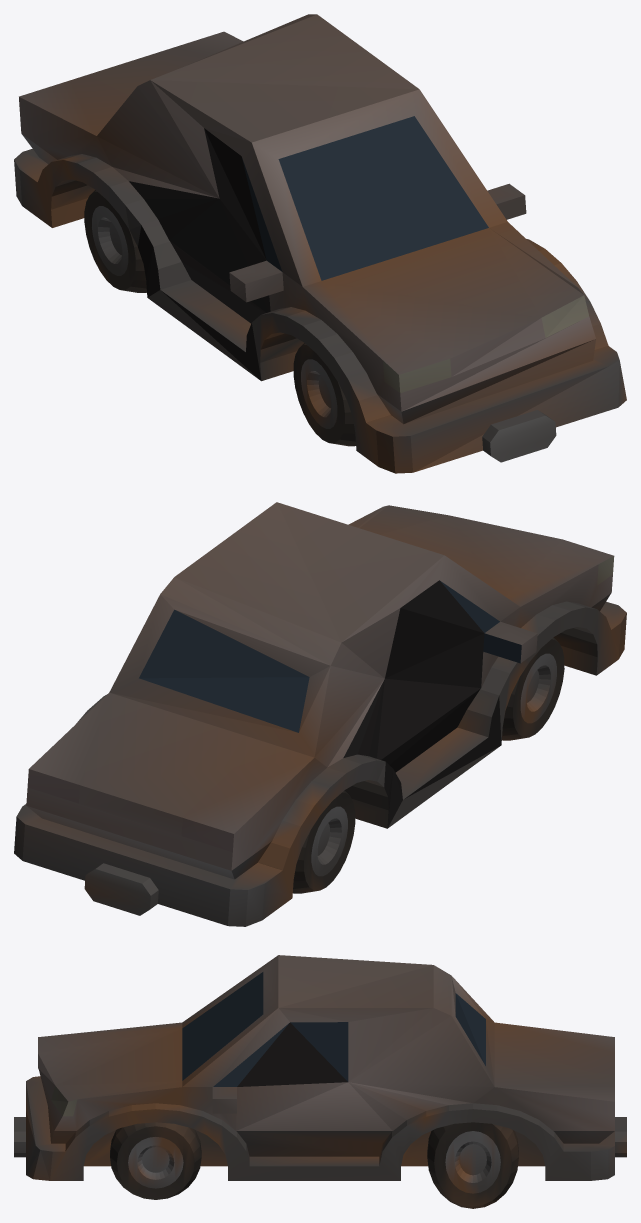
File: sedan_wreck_b.glb
3 renders of one model, top to bottom at view 1: azimuth 30°, elevation 25°; view 2: azimuth 150°, elevation 25°; view 3: azimuth 270°, elevation 25°, orthographic. The views are drawn at different scales.
Visible parts, largest first — view 1: sedan_wreck_b; view 2: sedan_wreck_b; view 3: sedan_wreck_b.
Boxes of the visible parts, x1=… form: sedan_wreck_b: x1=14, y1=14, x2=626, y2=473; sedan_wreck_b: x1=14, y1=502, x2=626, y2=926; sedan_wreck_b: x1=14, y1=955, x2=626, y2=1208.
Bounding box in the file's own units: 1.8 × 1.56 × 4.49.
